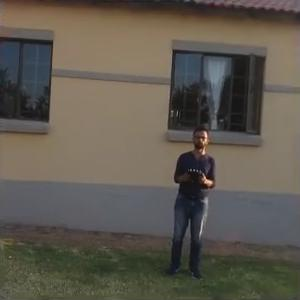follow: (163, 119, 219, 285)
